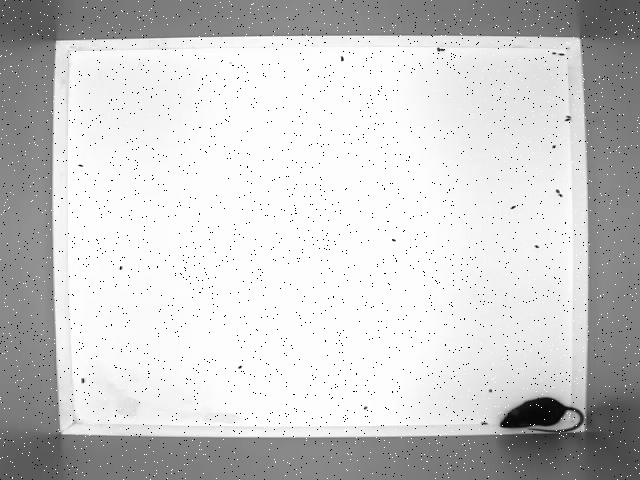Tikus: (502, 393, 584, 433)
